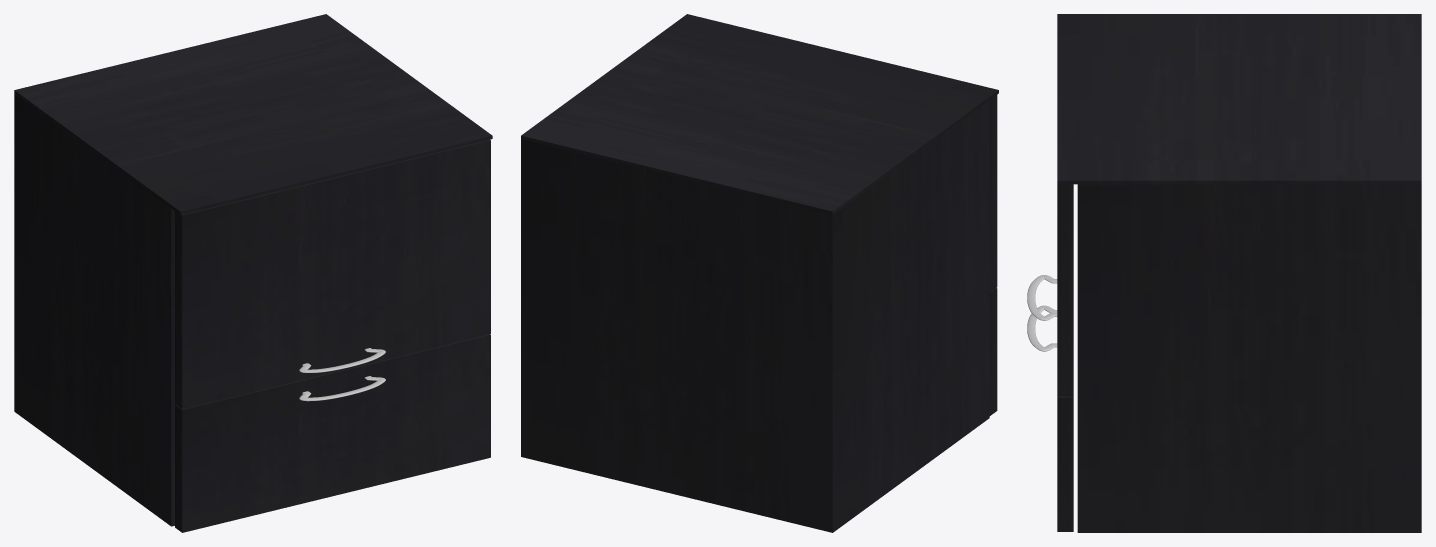
The model's file is sh-lp-mobile45198-w.glb.
The picture shows the model from 3 angles, left to right: view 1: azimuth 30°, elevation 25°; view 2: azimuth 150°, elevation 25°; view 3: azimuth 270°, elevation 25°; orthographic projection. The views are drawn at different scales.
Visible parts, largest first — view 1: Box52_6, Line40_1; view 2: Box52_6; view 3: Box52_6, Line40_1.
Part boxes in pixels (left/top/right/bottom): Box52_6: left=14, top=14, right=492, bottom=532; Line40_1: left=299, top=348, right=385, bottom=401; Box52_6: left=521, top=14, right=998, bottom=532; Box52_6: left=1057, top=14, right=1421, bottom=532; Line40_1: left=1027, top=275, right=1057, bottom=351.
Bounding box in the file's own units: 1 × 1 × 1.
Materials: 3 (1 with a texture image).
